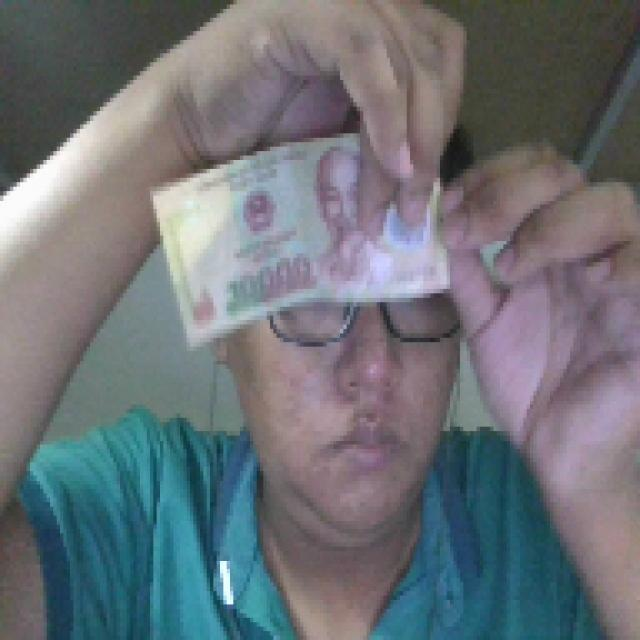10 000 VND: (146, 125, 456, 351)
